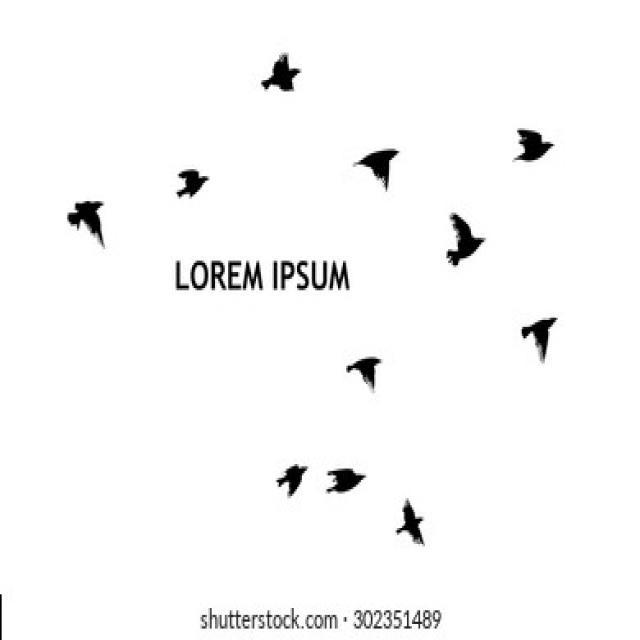bird: (337, 302, 406, 420), (42, 151, 112, 263), (504, 292, 582, 366), (432, 190, 502, 272), (157, 120, 216, 211), (248, 431, 320, 504), (314, 454, 374, 538), (379, 458, 432, 538), (251, 34, 309, 101), (503, 115, 554, 188), (348, 136, 400, 193)
